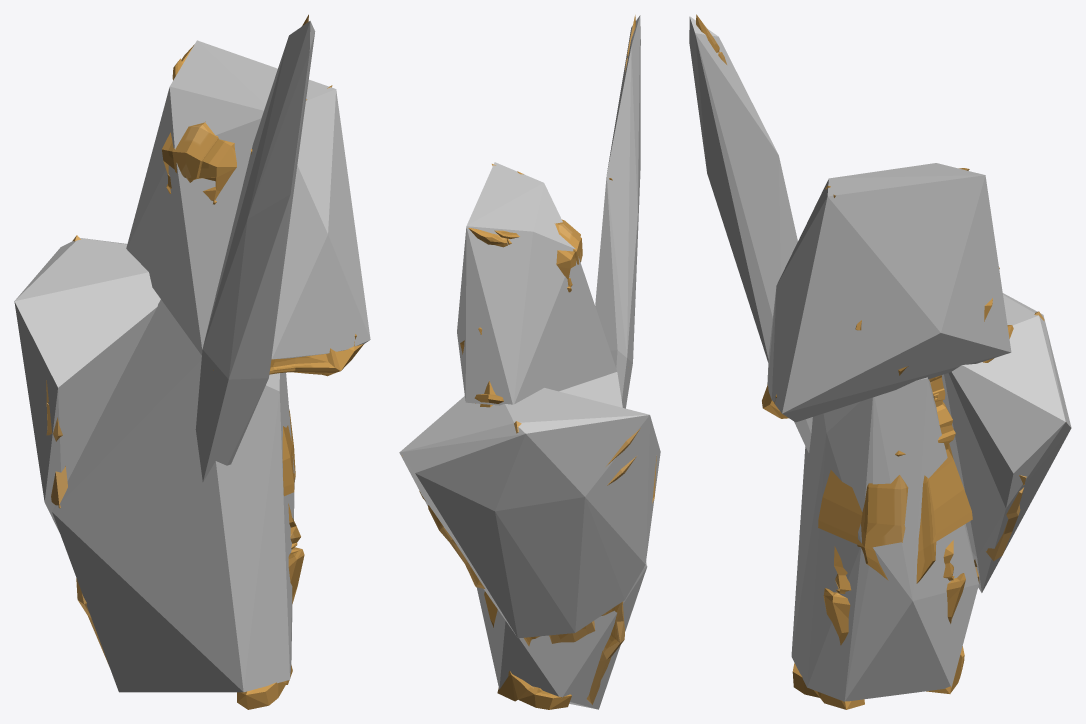
The model's file is SM_Prop_Statue_07.fbx.
3 views of the same model, side by side, from view 1: azimuth 30°, elevation 25°; view 2: azimuth 150°, elevation 25°; view 3: azimuth 270°, elevation 25° (orthographic). The views are drawn at different scales.
Parts seen in each view (by area): view 1: SM_Prop_Statue_07_ConvexHulls, SM_Prop_Statue_07; view 2: SM_Prop_Statue_07_ConvexHulls, SM_Prop_Statue_07; view 3: SM_Prop_Statue_07_ConvexHulls, SM_Prop_Statue_07.
Boxes of the visible parts, x1,y1,x2,y2 form: SM_Prop_Statue_07_ConvexHulls: (14,21,370,692); SM_Prop_Statue_07: (46,14,363,709); SM_Prop_Statue_07_ConvexHulls: (399,15,660,709); SM_Prop_Statue_07: (402,15,656,709); SM_Prop_Statue_07_ConvexHulls: (689,16,1071,701); SM_Prop_Statue_07: (696,14,1066,709).
Size of the model in its own units: 90.32 by 124 by 243.
Materials: 2 (1 with a texture image).
